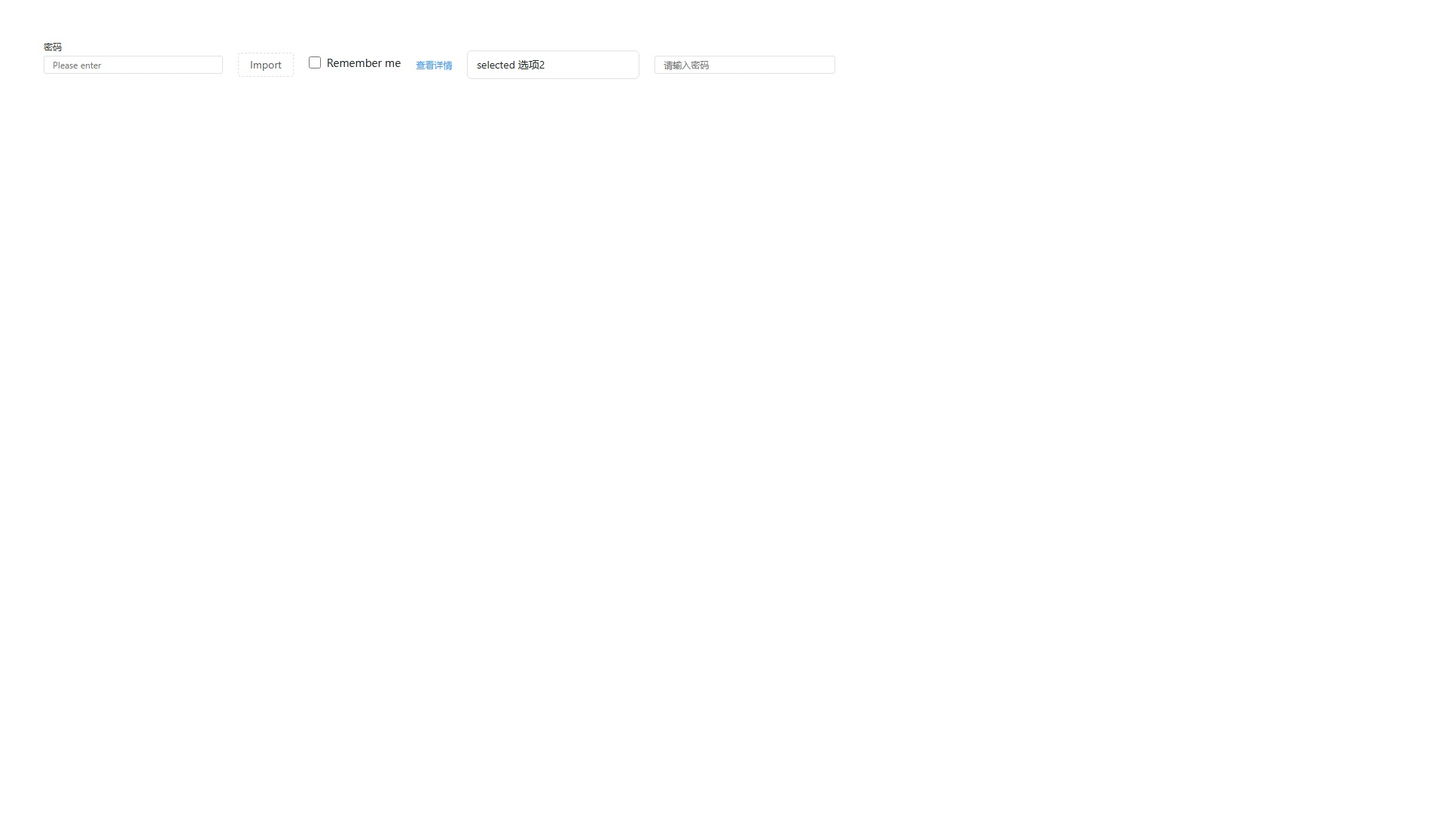button: (238, 53, 294, 77)
checkbox: (309, 56, 321, 69)
icon: (327, 55, 401, 70)
input: (655, 56, 835, 74), (44, 56, 223, 74)
link: (416, 59, 452, 71)
radio: (309, 55, 401, 70)
select: (467, 50, 639, 79)
